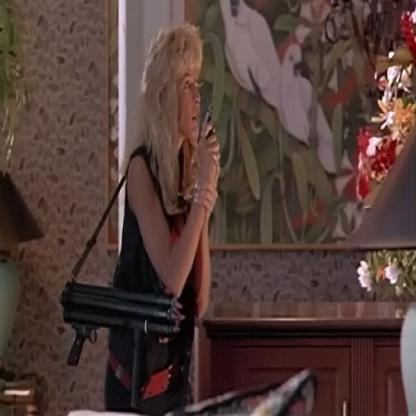Guns: (56, 275, 186, 415), (196, 97, 218, 153)
